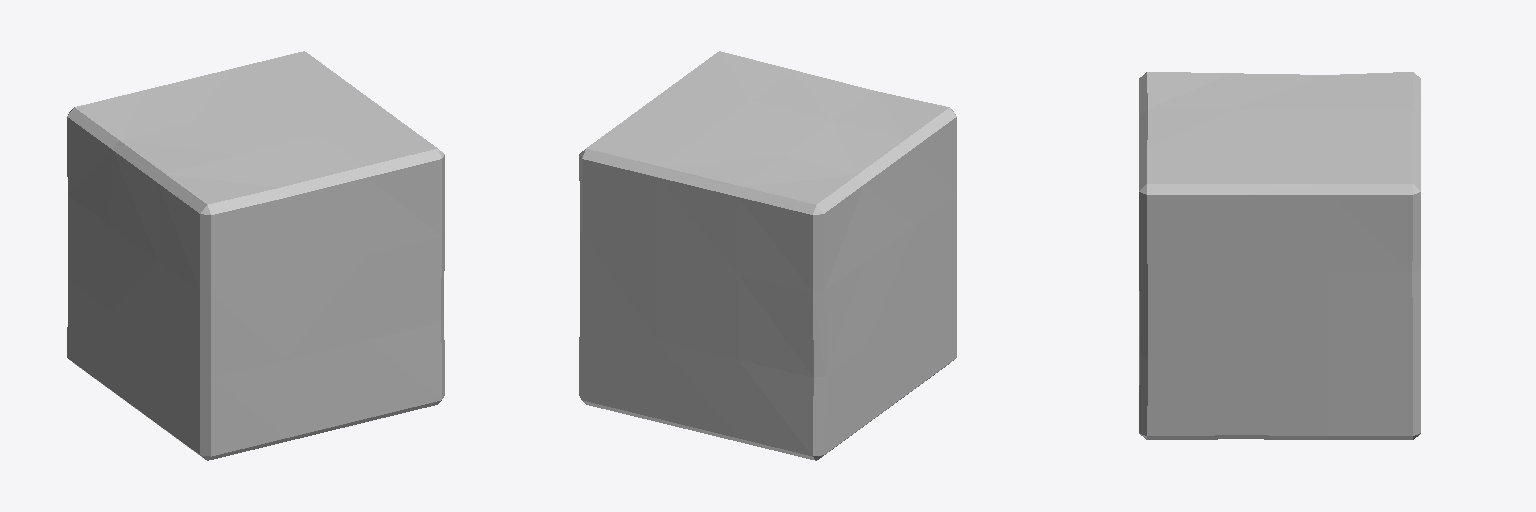
Rendered from CuboLetras.obj.
3 views of the same model, side by side, from view 1: azimuth 30°, elevation 25°; view 2: azimuth 150°, elevation 25°; view 3: azimuth 270°, elevation 25° (orthographic).
Parts seen in each view (by area): view 1: CuboLetras_01; view 2: CuboLetras_01; view 3: CuboLetras_01.
Boxes of the visible parts, x1,y1,x2,y2 form: CuboLetras_01: [67, 51, 444, 460]; CuboLetras_01: [579, 51, 956, 460]; CuboLetras_01: [1139, 72, 1420, 439].
Bounding box in the file's own units: 11.81 × 11.81 × 11.81.